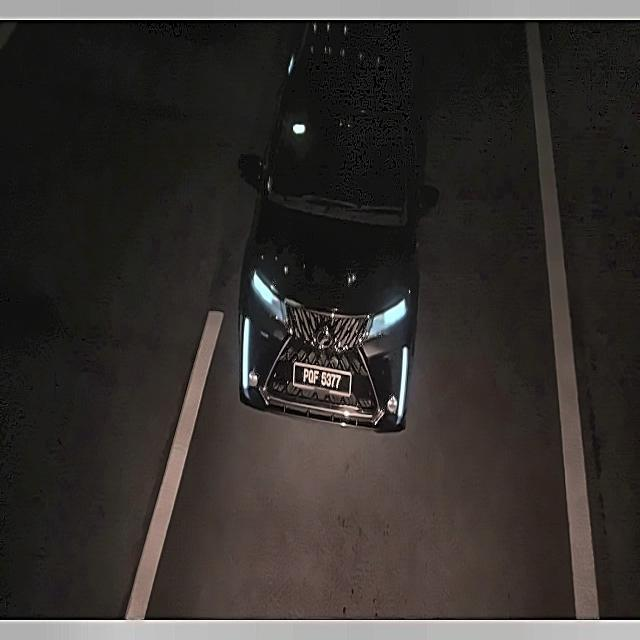car: (287, 357, 352, 404)
